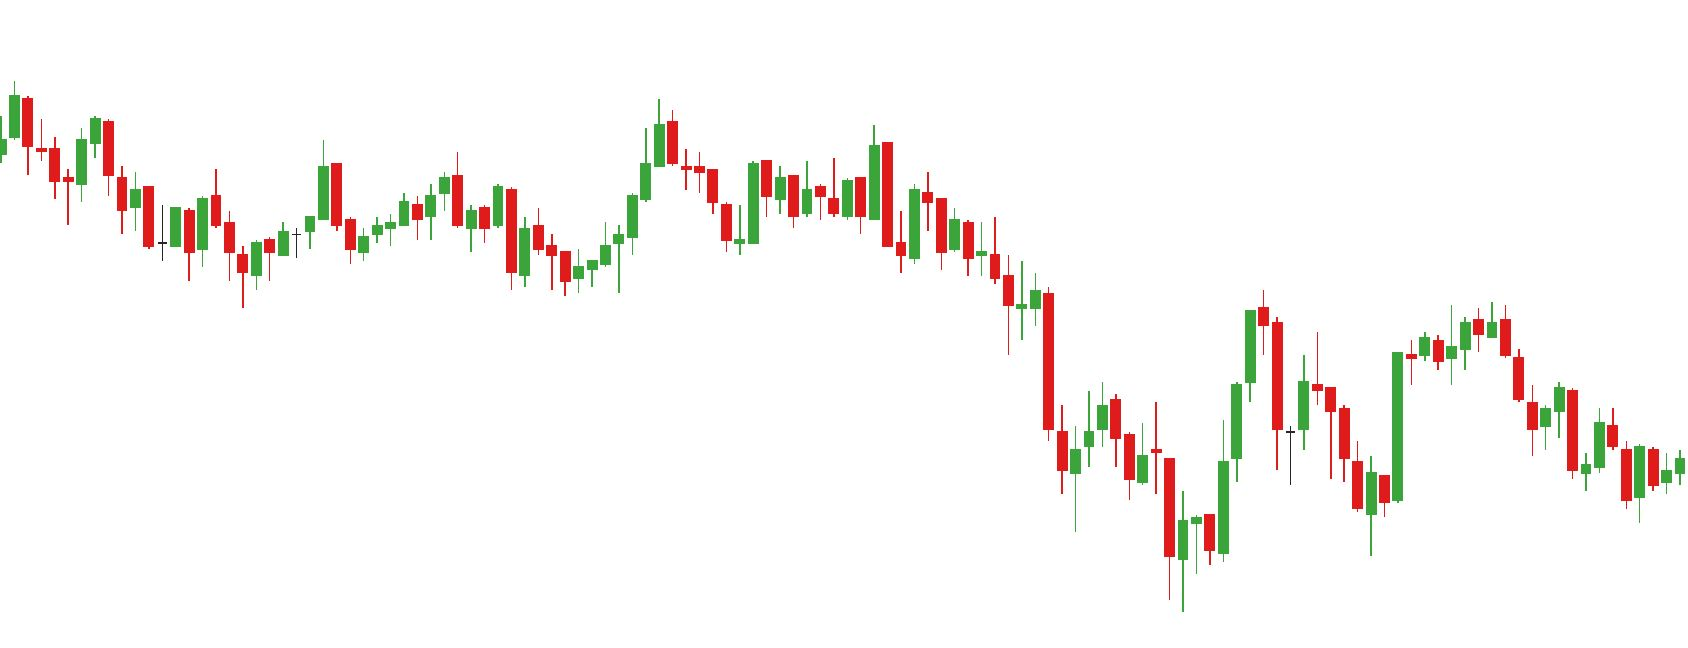buy: (1067, 425, 1188, 612)
sell: (451, 98, 679, 220)
